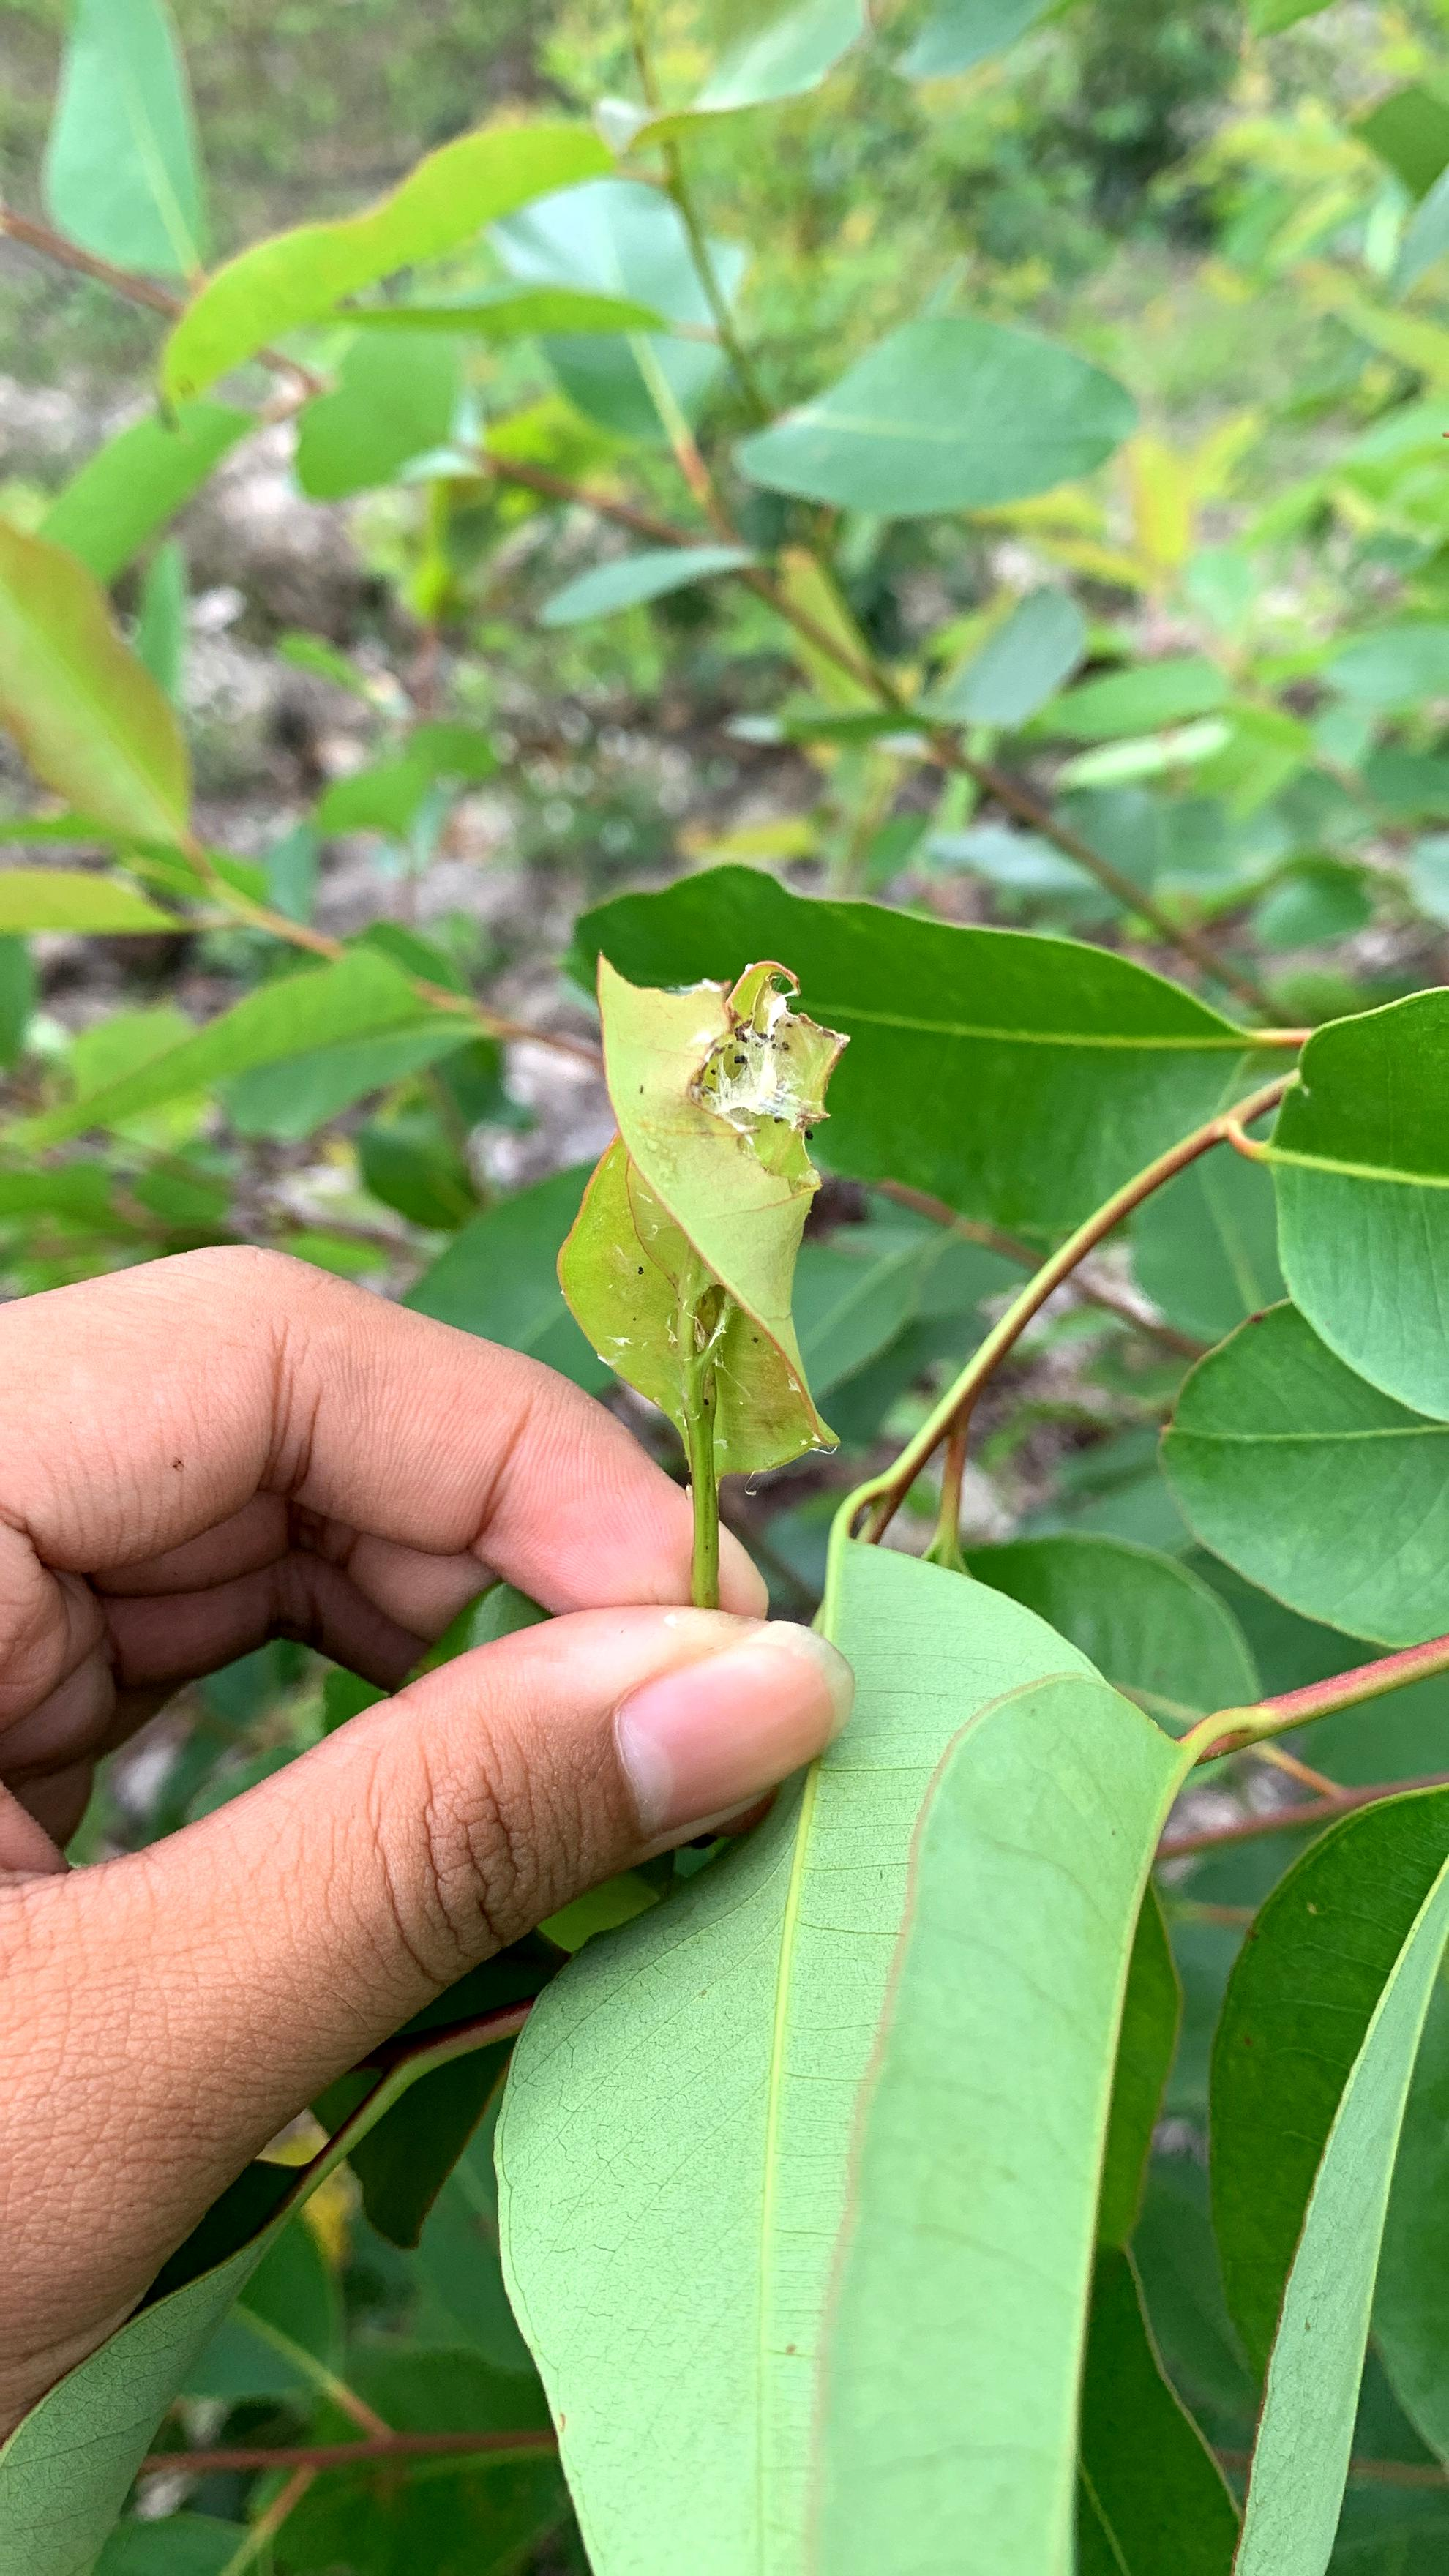Leaf Roller - Leaf: (557, 962, 844, 1477)
